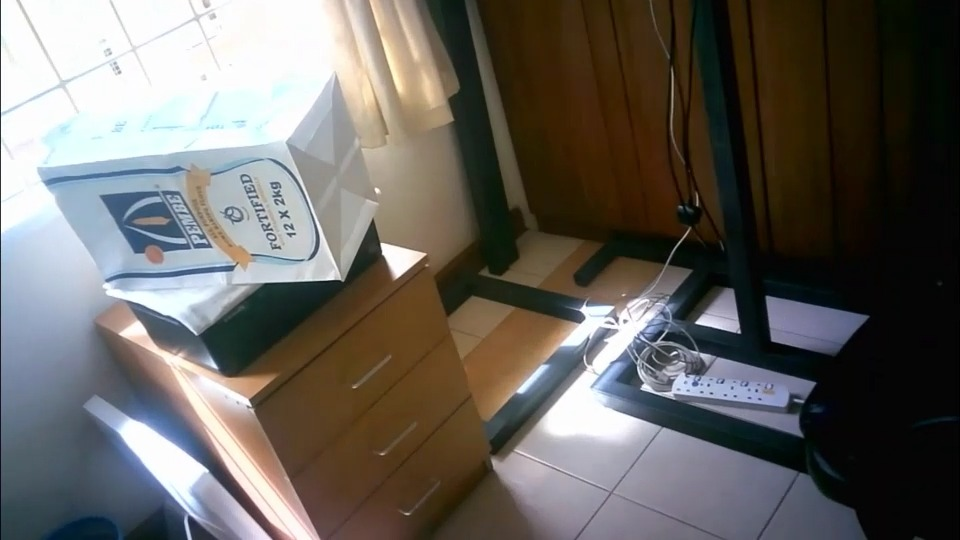wheat_flour_blue_label: (38, 71, 380, 281)
